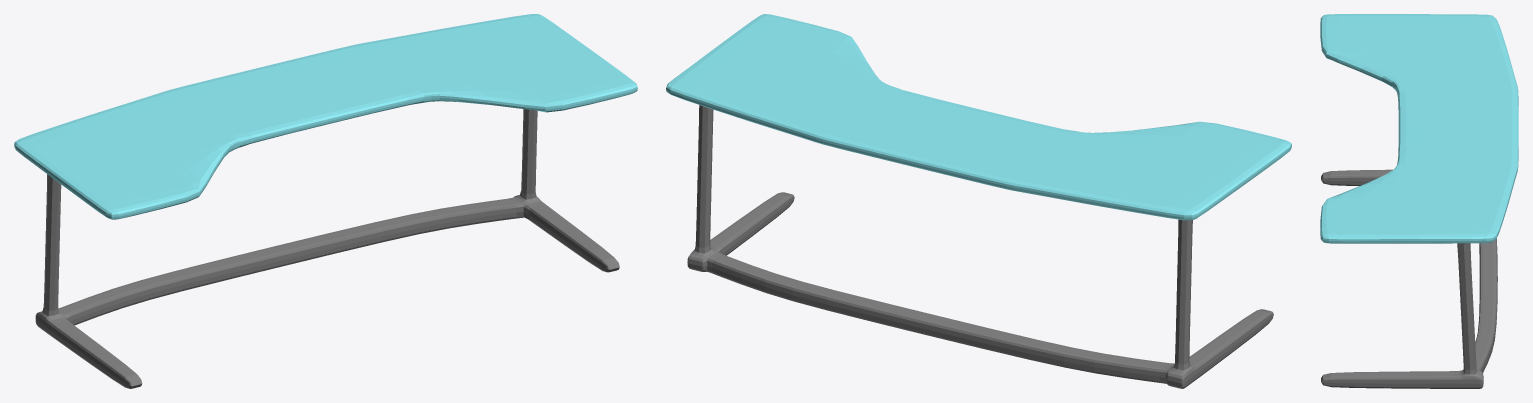
Rendered from glass_desk.glb.
The picture shows the model from 3 angles, left to right: view 1: azimuth 30°, elevation 25°; view 2: azimuth 150°, elevation 25°; view 3: azimuth 270°, elevation 25°; orthographic projection. The views are drawn at different scales.
Visible parts, largest first — view 1: Desk_0; view 2: Desk_0; view 3: Desk_0.
Boxes of the visible parts, left/top/right/bottom form: Desk_0: left=14, top=14, right=637, bottom=388; Desk_0: left=666, top=14, right=1291, bottom=388; Desk_0: left=1320, top=14, right=1518, bottom=388.
Size of what is drawn, in the model's own units: 2.4 by 0.799 by 0.8973.
